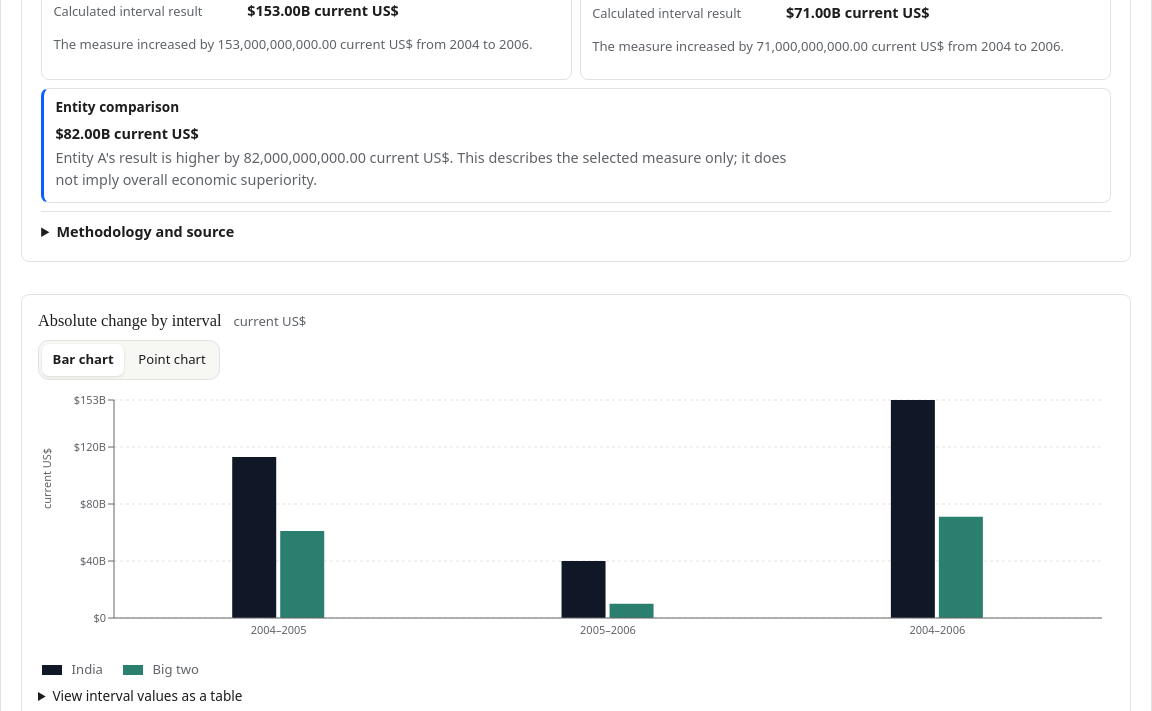
compare UI: observed and like-for-like › switches interval chart type without changing the selected calculation or refetching data
The image size is (1152, 711).
(page scrolled)
Expected: the button "Bar chart" is shown, [42, 344, 124, 376]
Click the button "Point chart": [172, 360] box [128, 344, 216, 376]
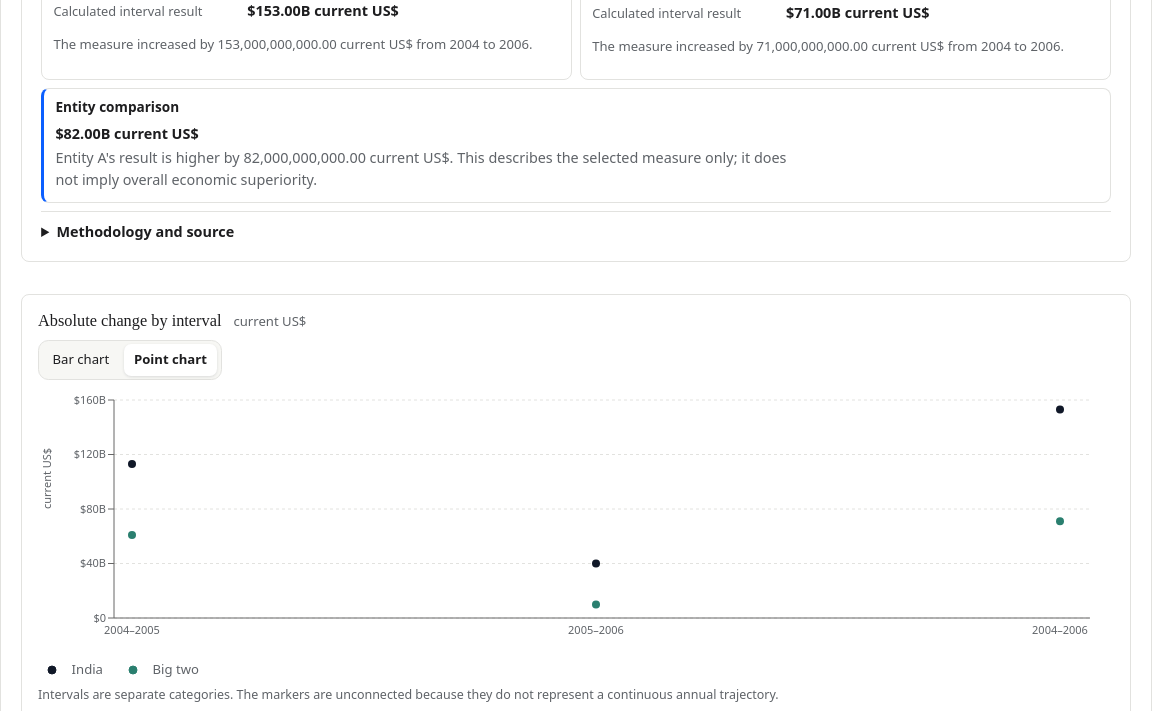
Expected: the button "Point chart" is shown, [124, 344, 217, 376]
Now the text "they do not represent a continuous annual trajectory" is shown, box [38, 686, 779, 702]
